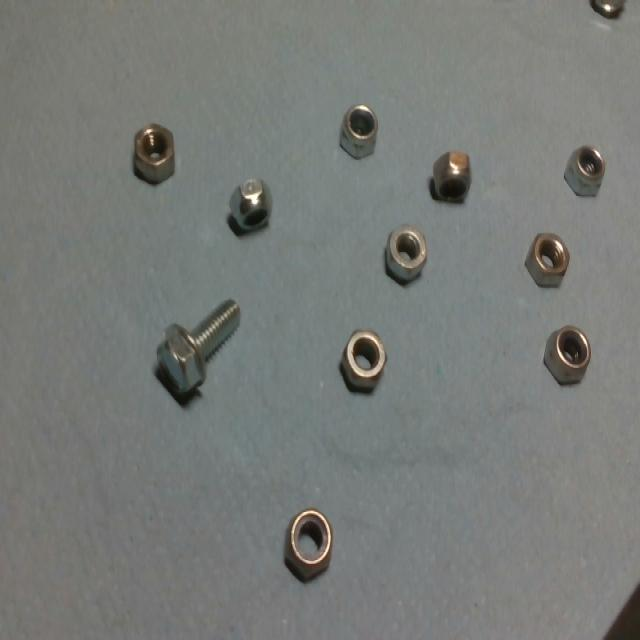Bolt: (154, 299, 241, 408)
Nut: (284, 509, 334, 583), (338, 325, 388, 396), (542, 324, 592, 384), (385, 225, 426, 288), (133, 123, 174, 185), (228, 179, 272, 236), (525, 233, 569, 288), (338, 105, 378, 159), (432, 149, 471, 203), (563, 147, 605, 197)
